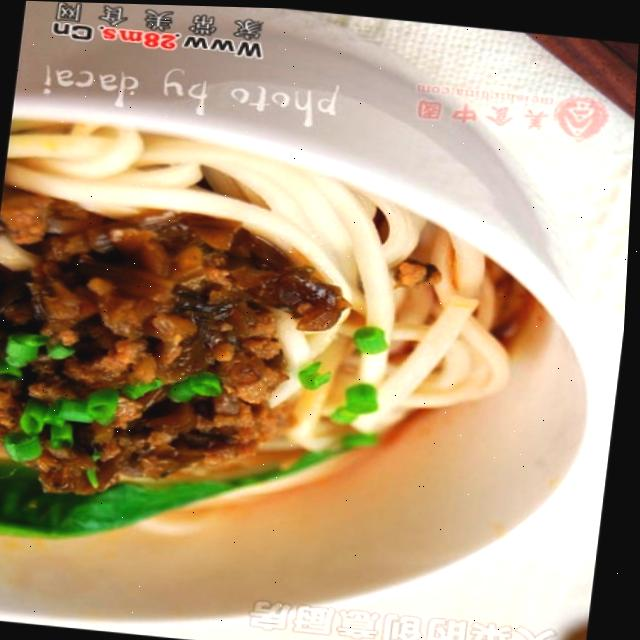面条主食: (0, 99, 555, 596)
